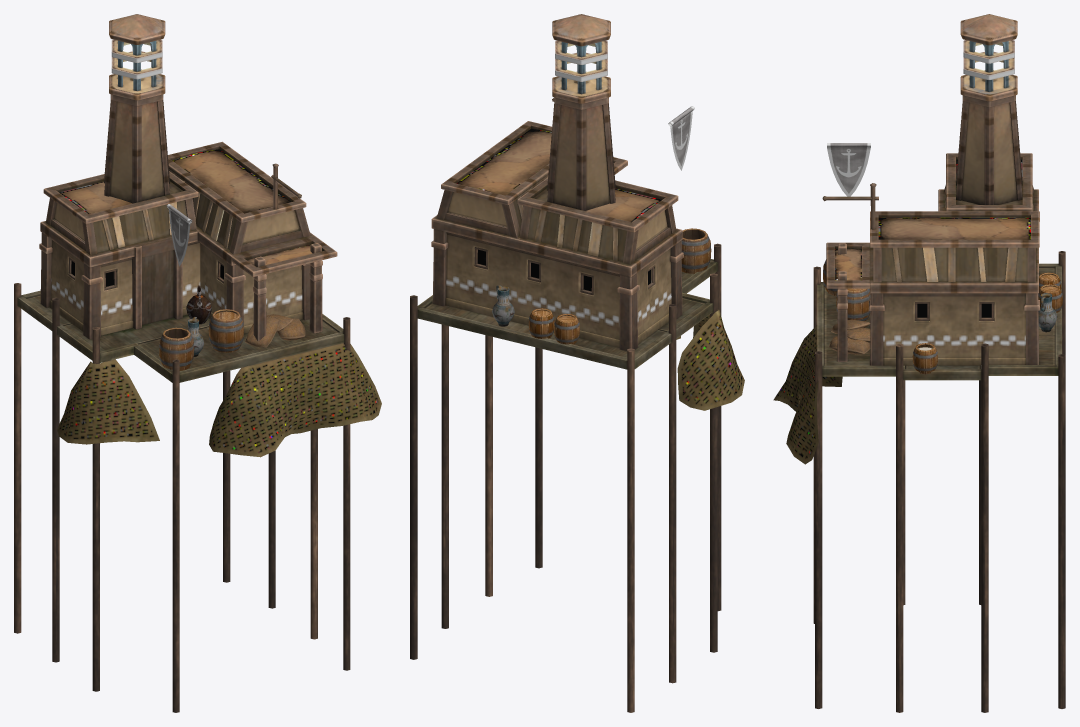
File: 49-dock.glb
3 renders of one model, left to right at view 1: azimuth 30°, elevation 25°; view 2: azimuth 150°, elevation 25°; view 3: azimuth 270°, elevation 25°, orthographic. The views are drawn at different scales.
Bounding box in the file's own units: 7.58 × 16.73 × 7.05.
Materials: 6 (5 with a texture image).
